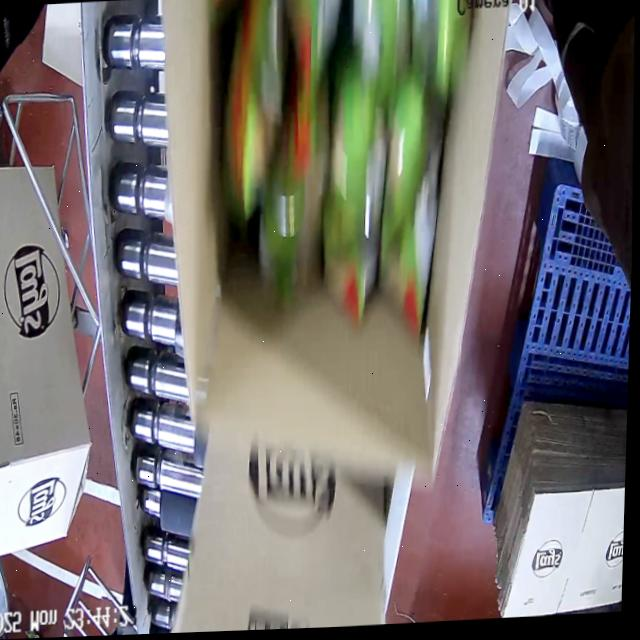YOGURT_HERB: (198, 0, 466, 347)
